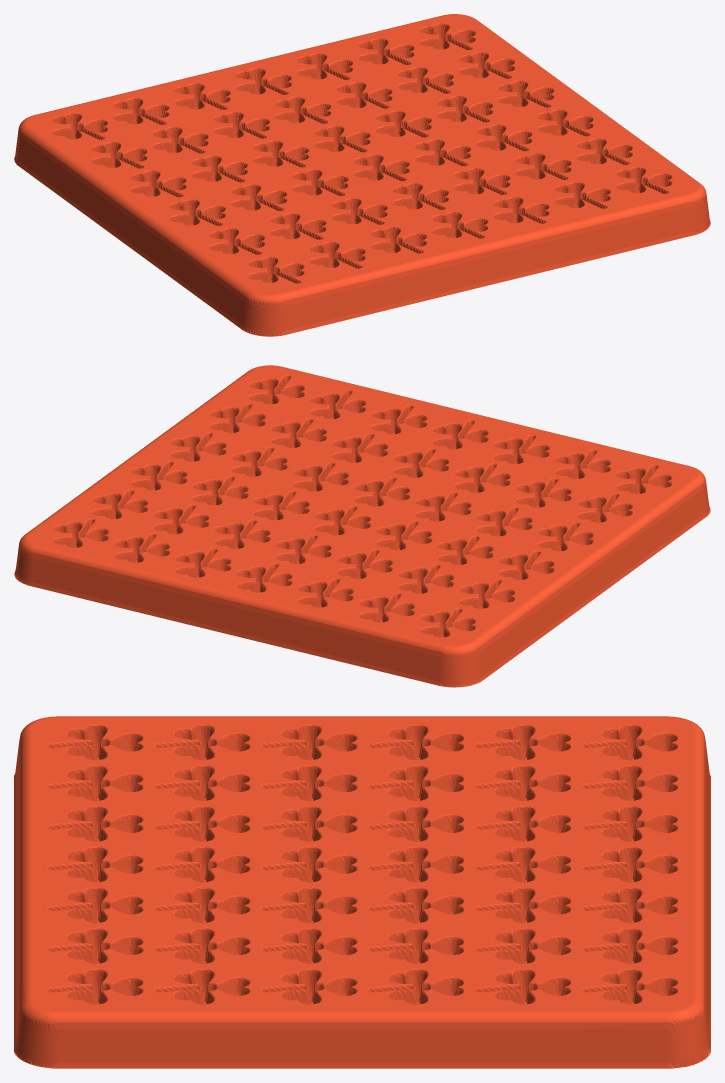
Rendered from mold.glb.
3 views of the same model, one above another, from view 1: azimuth 30°, elevation 25°; view 2: azimuth 150°, elevation 25°; view 3: azimuth 270°, elevation 25° (orthographic). The views are drawn at different scales.
Parts seen in each view (by area): view 1: geometry_0; view 2: geometry_0; view 3: geometry_0.
Boxes of the visible parts, x1=… form: geometry_0: x1=14, y1=14, x2=710, y2=336; geometry_0: x1=14, y1=365, x2=710, y2=687; geometry_0: x1=14, y1=716, x2=710, y2=1068.
Bounding box in the file's own units: 0.1505 × 0.0113 × 0.1437.
